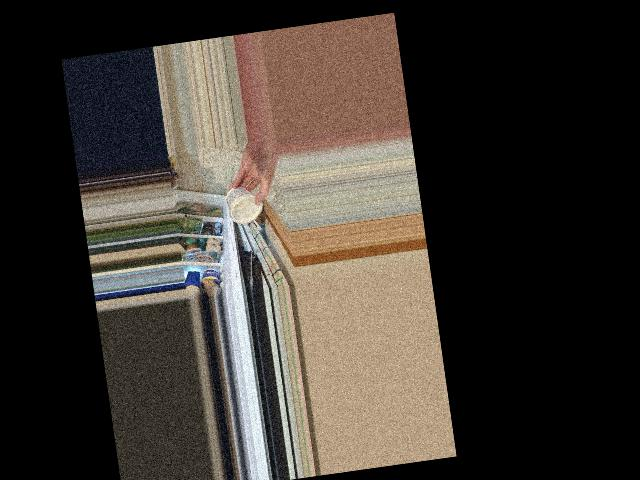cotage: (225, 180, 268, 224)
